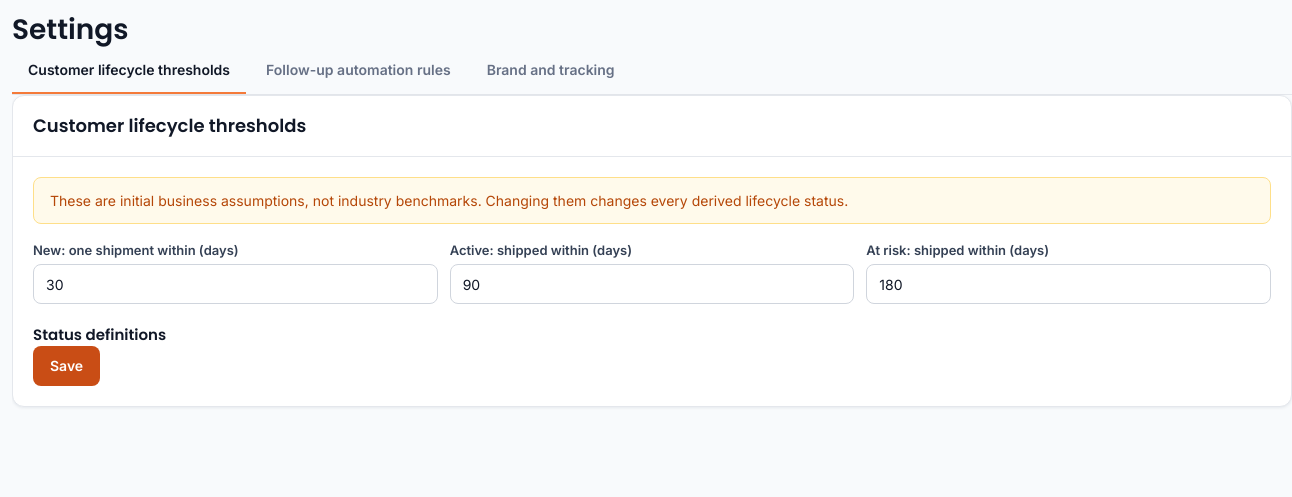
Test: the legal entity is Solaris Express Inc. › on Settings
The width and height of the screenshot is (1292, 497).
Expected: the heading "Settings" is shown, [12,12,129,48]
Click the tab "Brand and tracking". click: (551, 71)
box: [471,48,631,94]
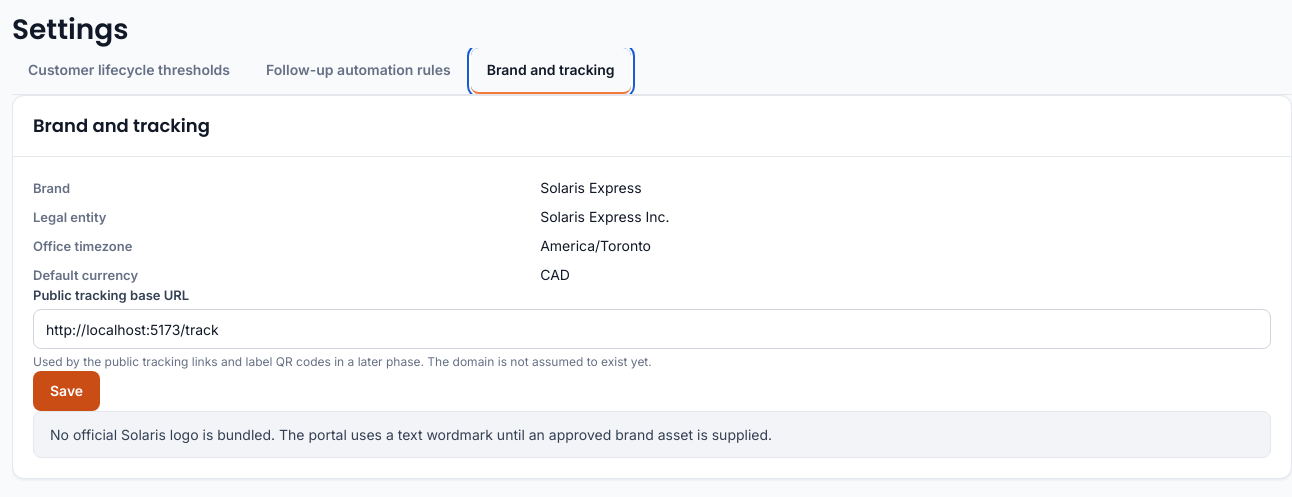
Expected: the text "Solaris Express Inc." is shown, [540,208,670,225]
